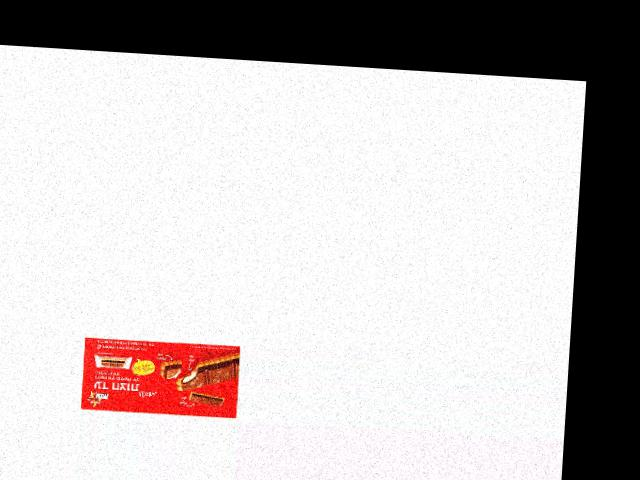chocolate: (77, 336, 241, 419)
